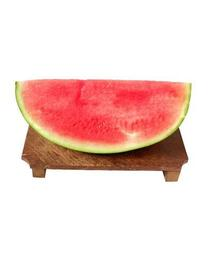watermelon: (13, 79, 196, 156)
